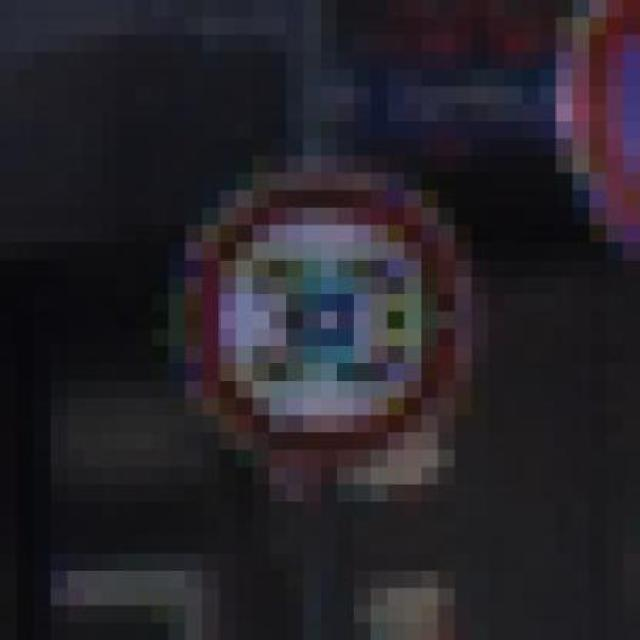Speed Limit 30 KMPh: (152, 138, 488, 484)
